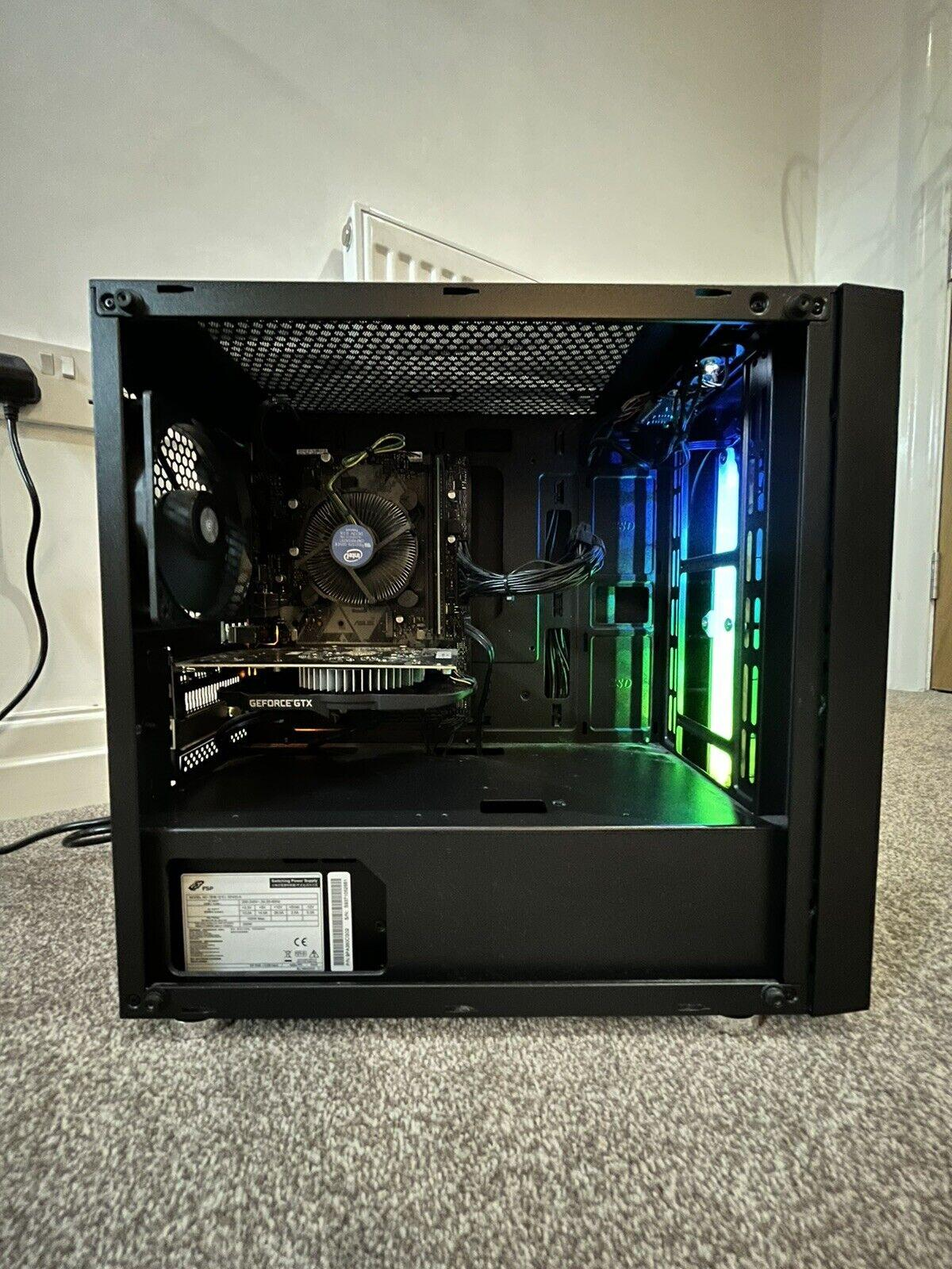DESKTOP PC: (70, 258, 911, 1033)
